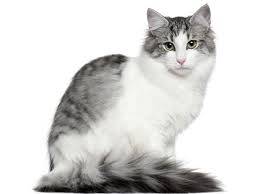Gato: (92, 2, 239, 133)
